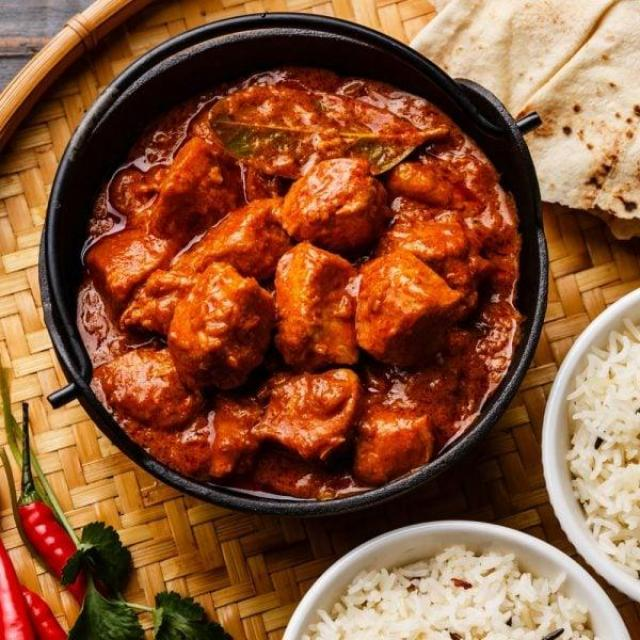chicken: (68, 28, 548, 504)
rice: (286, 548, 624, 640), (572, 317, 640, 588)
roti: (517, 0, 640, 253)
